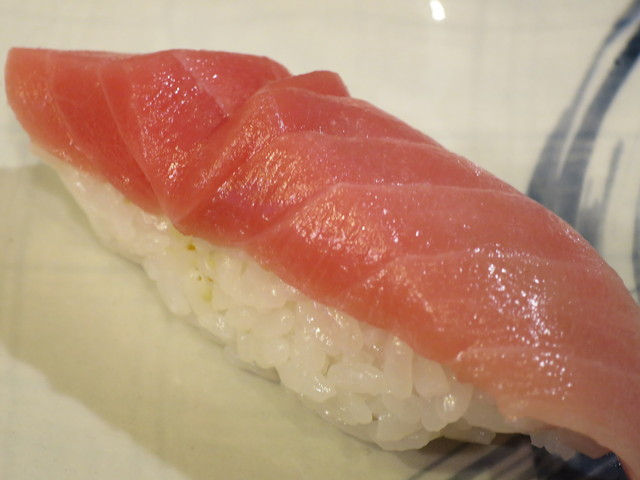medium_fatty_tuna: (5, 40, 640, 476)
